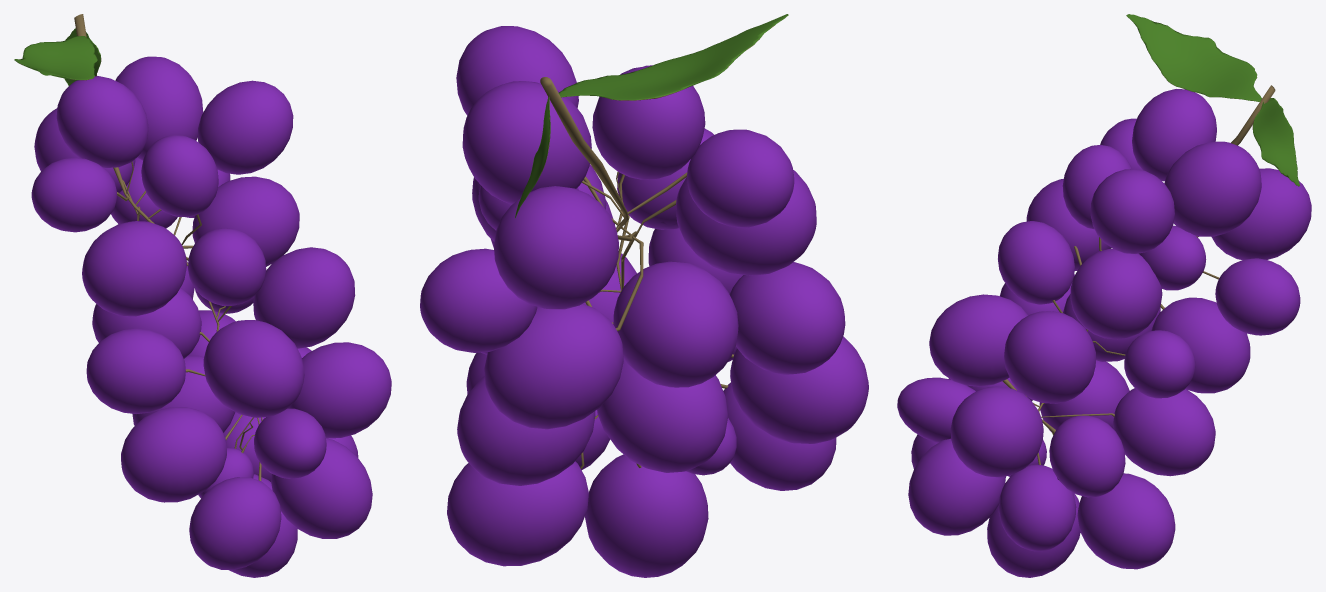
The model's file is uvas.glb.
3 views of the same model, side by side, from view 1: azimuth 30°, elevation 25°; view 2: azimuth 150°, elevation 25°; view 3: azimuth 270°, elevation 25° (orthographic). The views are drawn at different scales.
Visible parts, largest first — view 1: grapes, Plane, vine; view 2: grapes, Plane, vine; view 3: grapes, Plane, vine.
Part boxes in pixels (x1,y1,x2,y2): grapes: (31, 56, 391, 577); Plane: (14, 28, 101, 85); vine: (74, 14, 262, 480); grapes: (420, 26, 868, 577); Plane: (515, 14, 788, 218); vine: (540, 77, 733, 469); grapes: (897, 89, 1311, 577); Plane: (1126, 14, 1299, 186); vine: (1002, 85, 1275, 464).
Size of the model in its own units: 1.87 by 3.23 by 2.51.
Materials: 1 (1 with a texture image).
